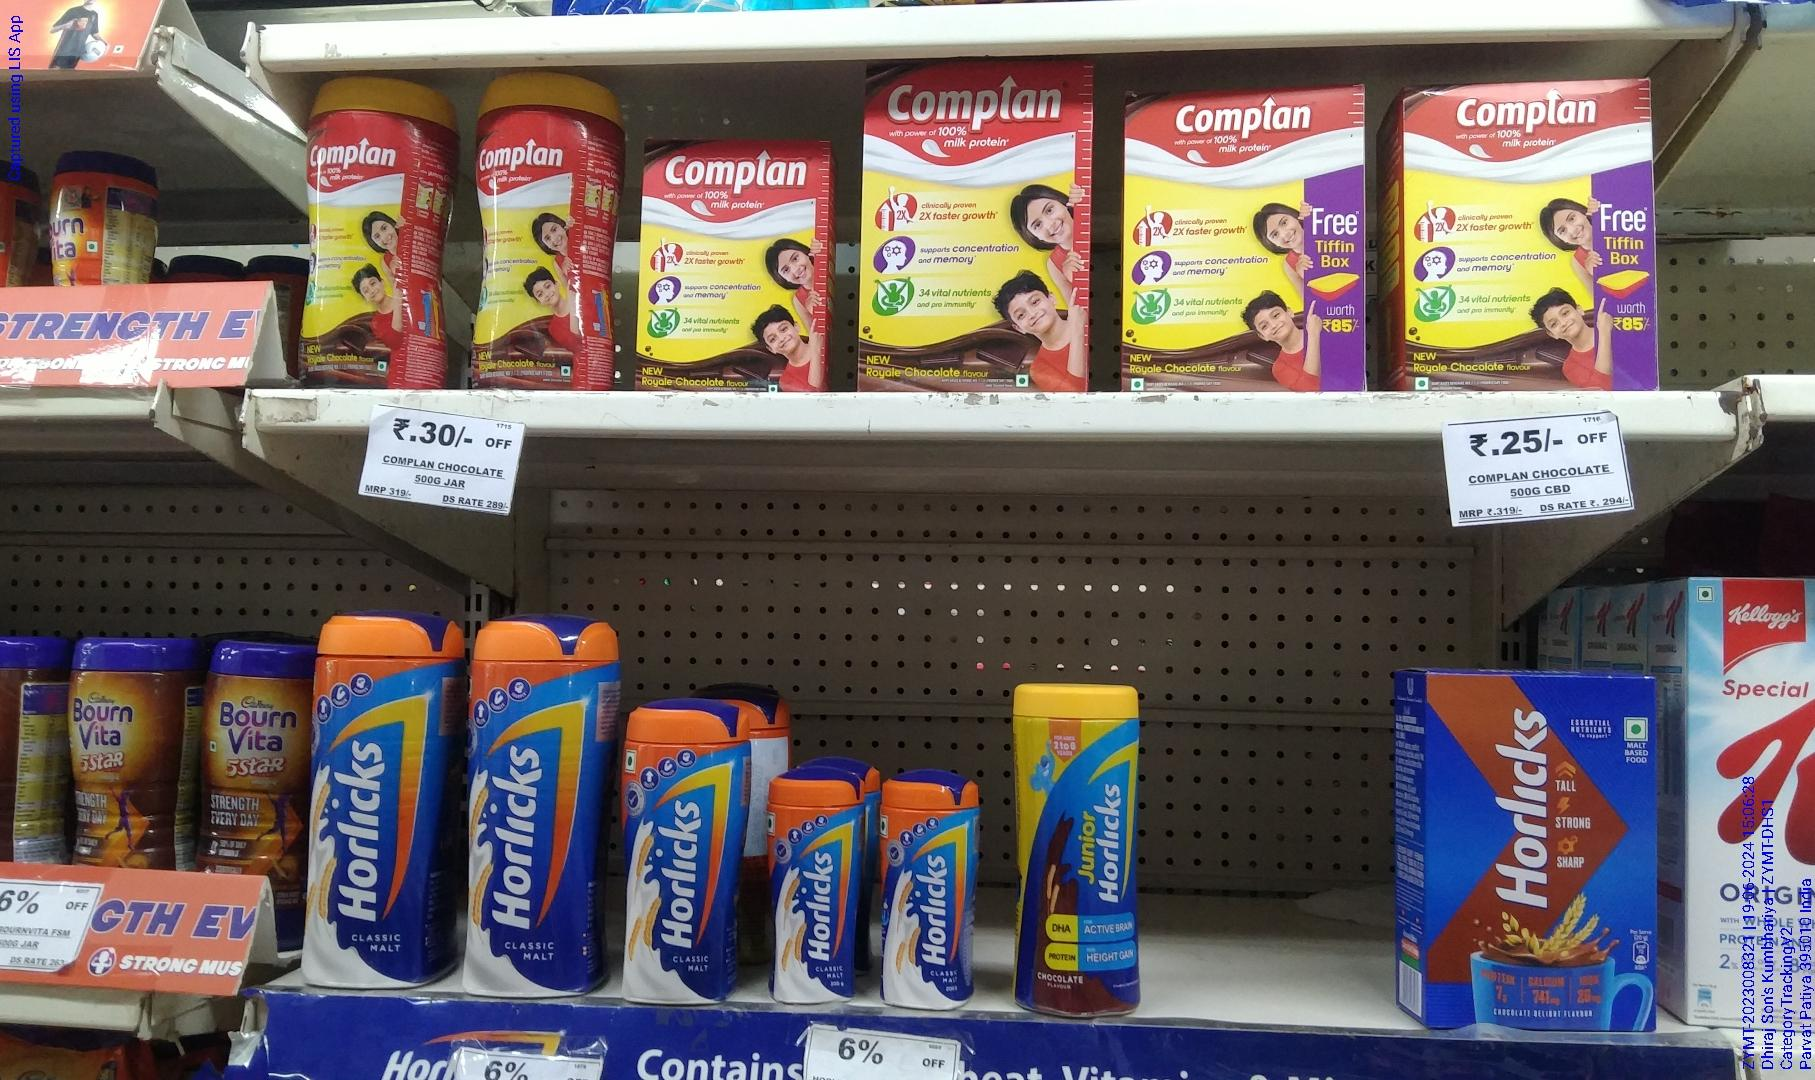BOURN_VITA_FIVE_STAR_MAGIC_500_G_JAR: (201, 635, 307, 873), (75, 635, 174, 872)
COMPLAN_CHOCOLATE_200_GMS_PACK: (640, 134, 836, 391)
COMPLAN_CHOCOLATE_500_GMS_JAR: (473, 68, 586, 383), (308, 80, 422, 390)
HORLICK_CHOCOLATE_500_G_PACK: (1426, 676, 1654, 1034)
HORLICK_CLASSIC_MALT_200_G_JAR: (877, 775, 981, 1008), (770, 779, 857, 1003)
HORLICK_CLASSIC_MALT_500_G_JAR: (621, 707, 739, 1011)
